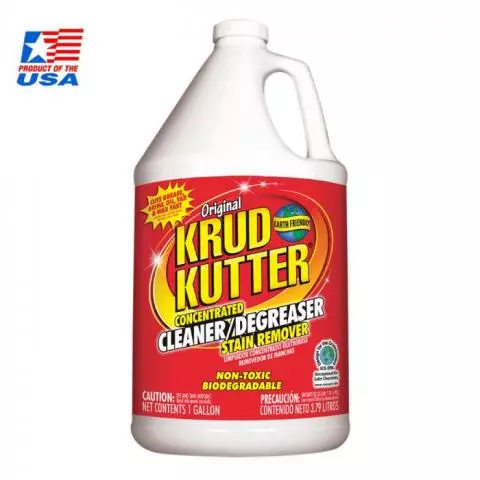Cleaning_solution: (125, 14, 355, 460)
